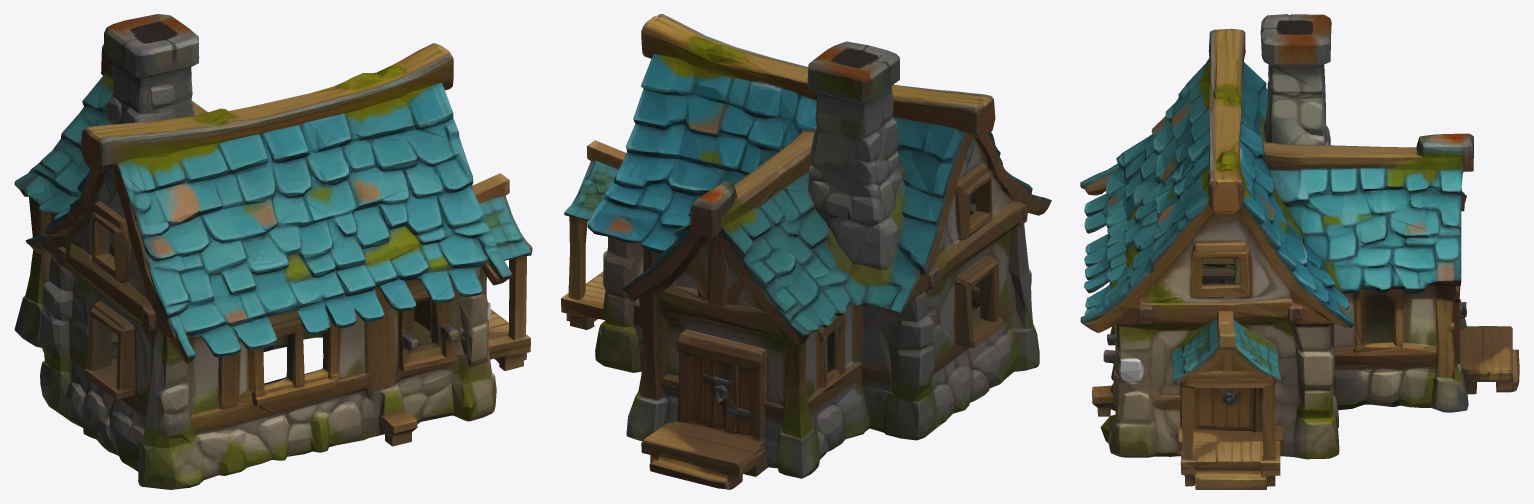
The model's file is house_teal.glb.
3 views of the same model, side by side, from view 1: azimuth 30°, elevation 25°; view 2: azimuth 150°, elevation 25°; view 3: azimuth 270°, elevation 25° (orthographic). The views are drawn at different scales.
Visible parts, largest first — view 1: world; view 2: world; view 3: world.
Boxes of the visible parts, box(x1,y1,x2,y2) form: world: box(14, 14, 532, 489); world: box(561, 14, 1051, 489); world: box(1080, 14, 1519, 489).
Size of the model in its own units: 0.9858 by 0.818 by 0.9988.
Materials: 1 (1 with a texture image).
